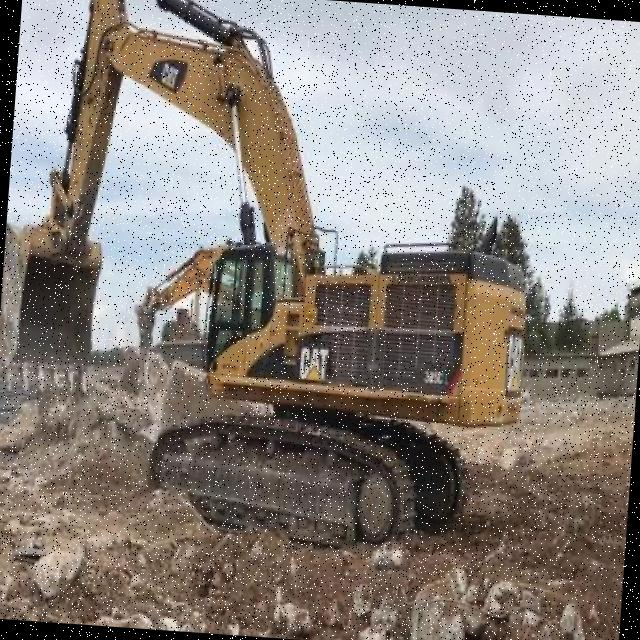Excavator: (0, 0, 556, 560)
